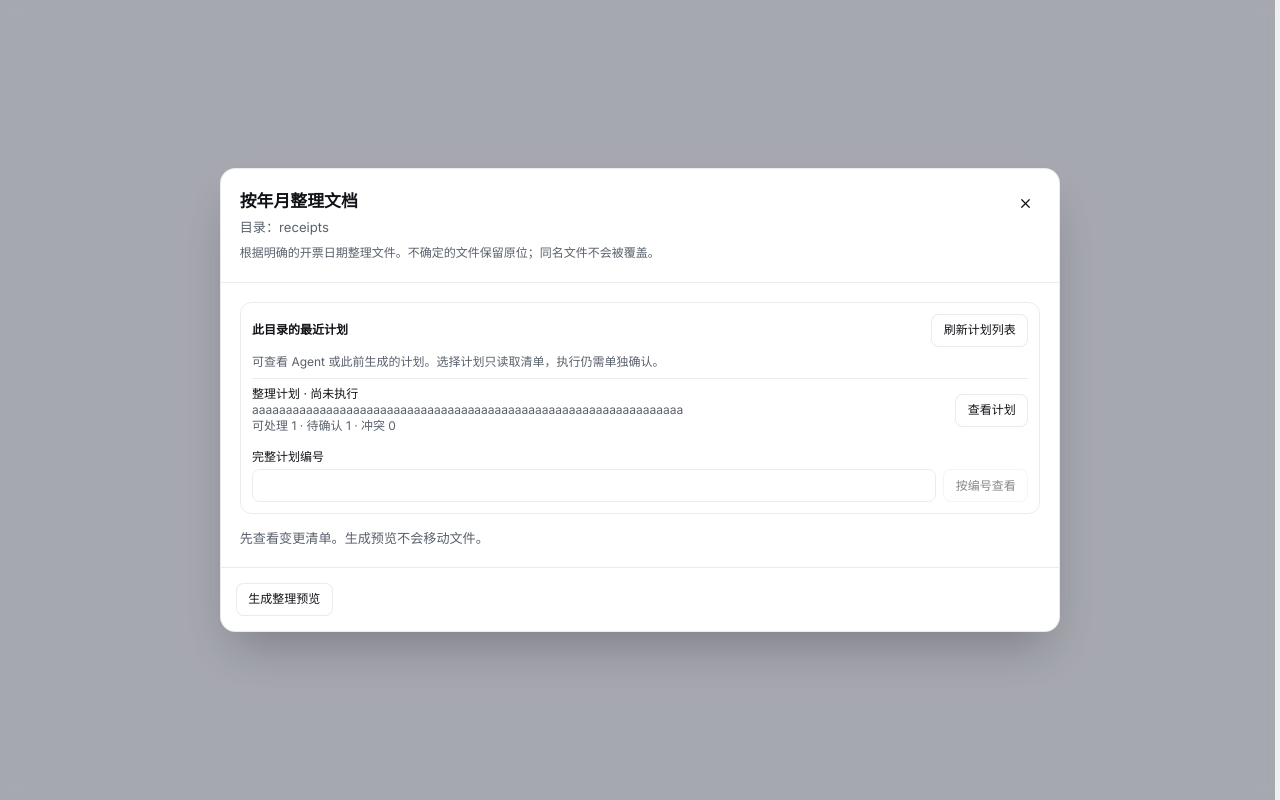
Test: NAS document organization flow › discovers an Agent-created plan without selecting it, then requires independent approval
Check: the button "确认整理计划" is not shown
Click the button "查看计划" at (992, 410), box [956,394,1028,427]
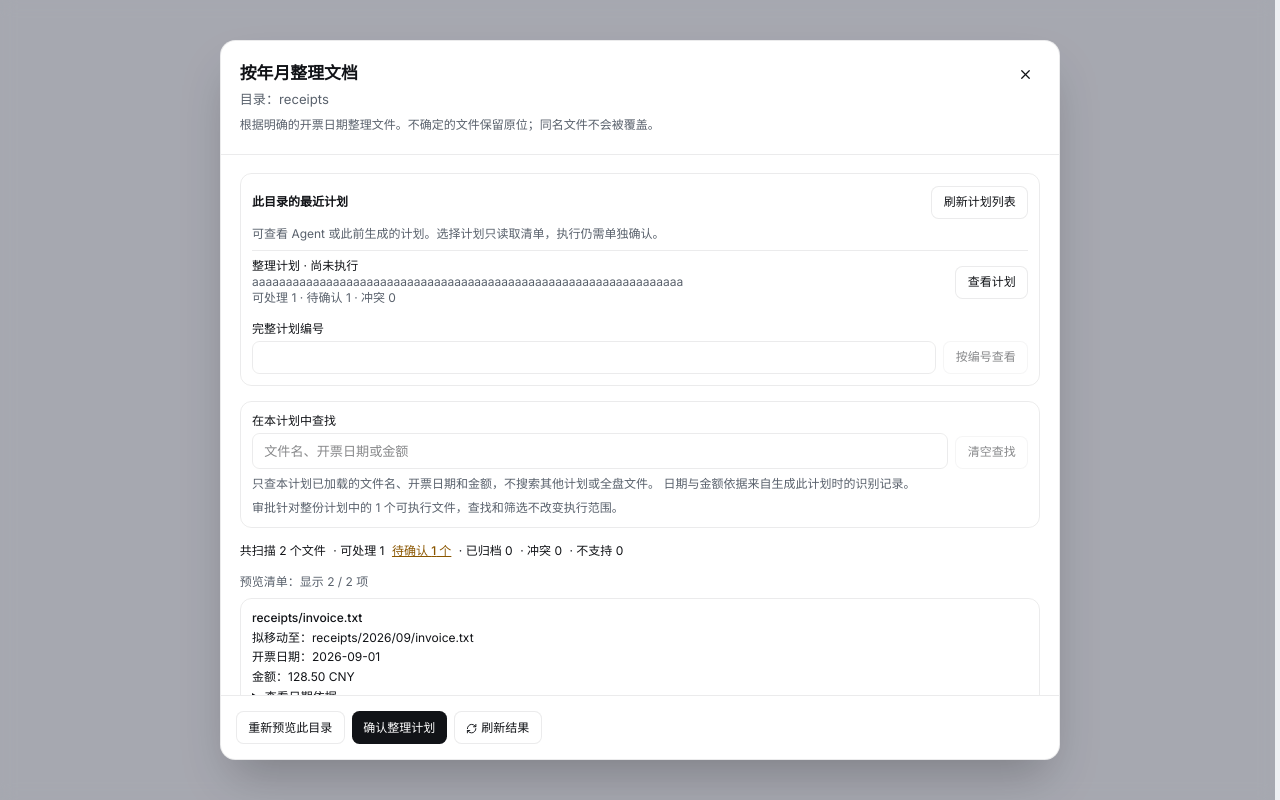
Check: the text "拟移动至：receipts/2026/09/invoice.txt" is shown, box [252,630,474,644]
Click the button "确认整理计划" at (399, 728), box [352,711,446,744]
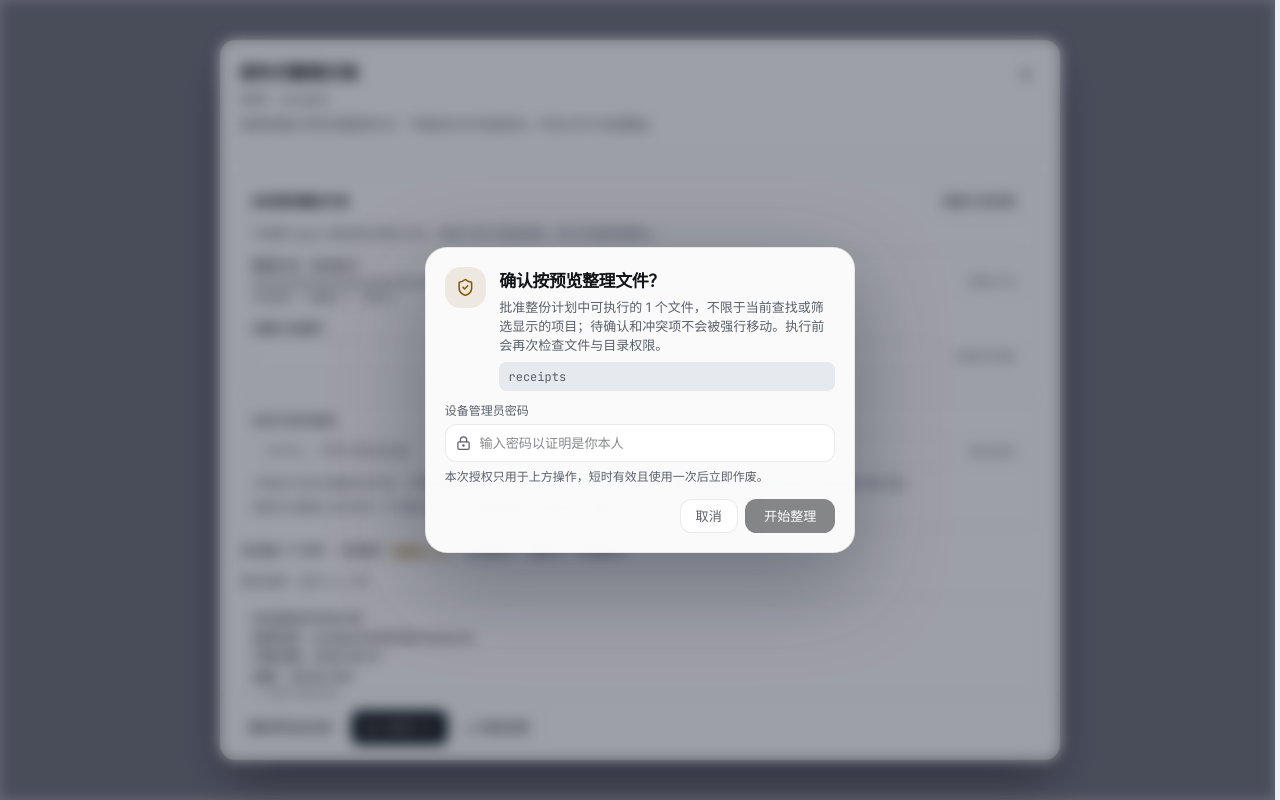
Type "synthetic-password" into the password field labelled "设备管理员密码" at (640, 443), box [445,424,835,462]
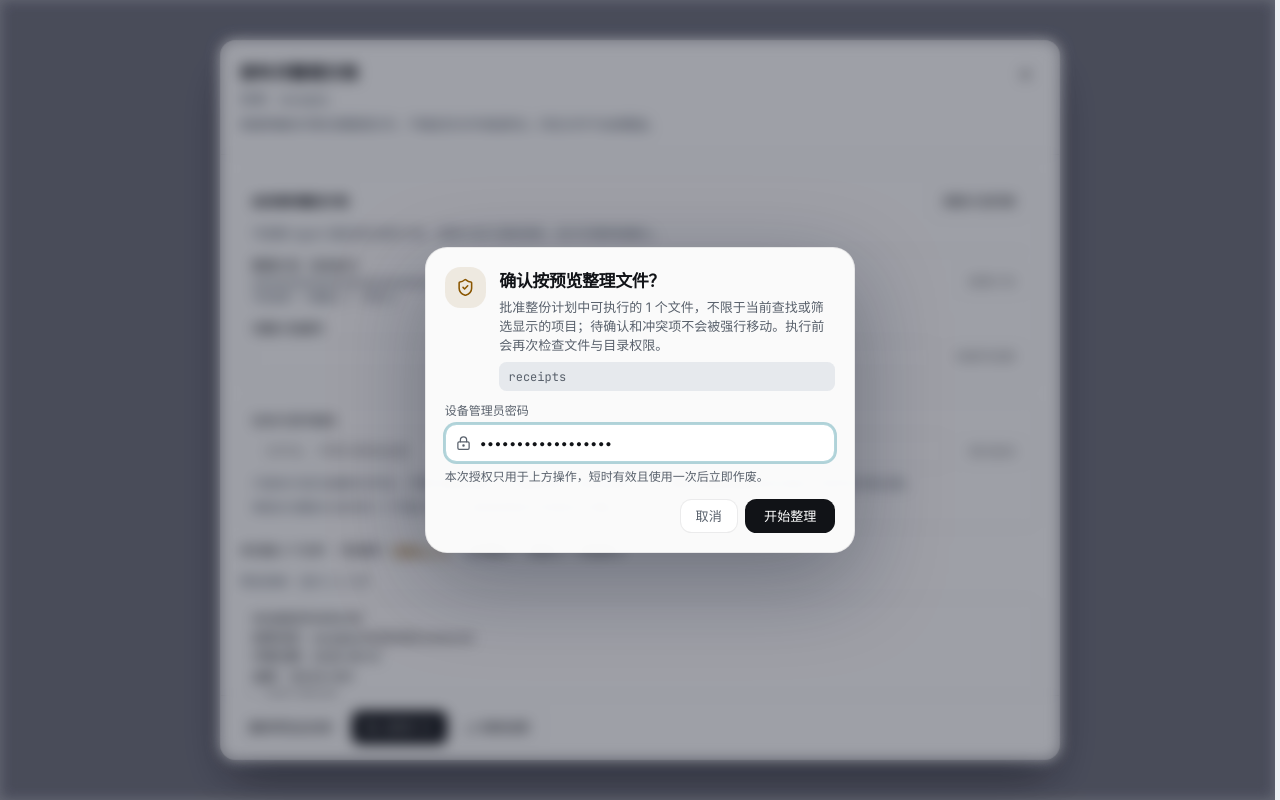
Click the button "开始整理" at (790, 516), box [745,499,835,533]
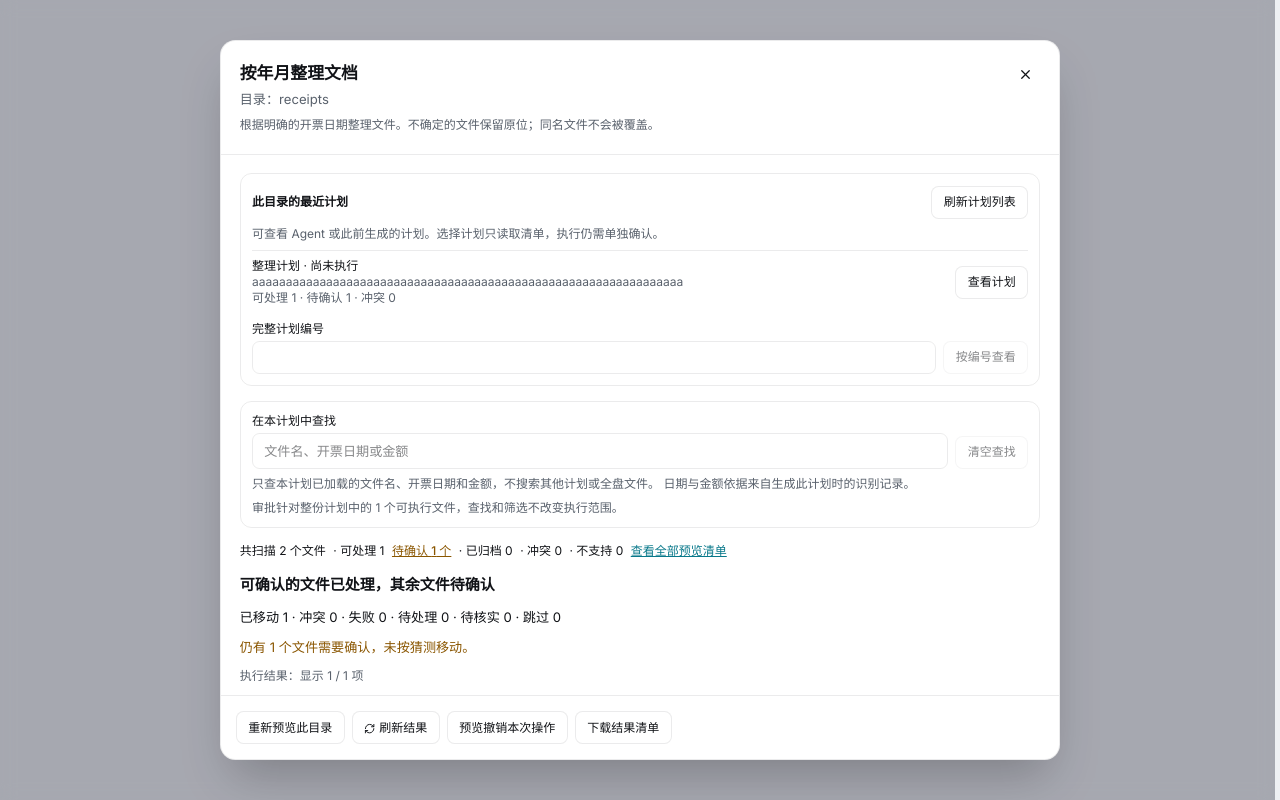
Check: the heading "可确认的文件已处理，其余文件待确认" is shown, box [240,575,495,594]
